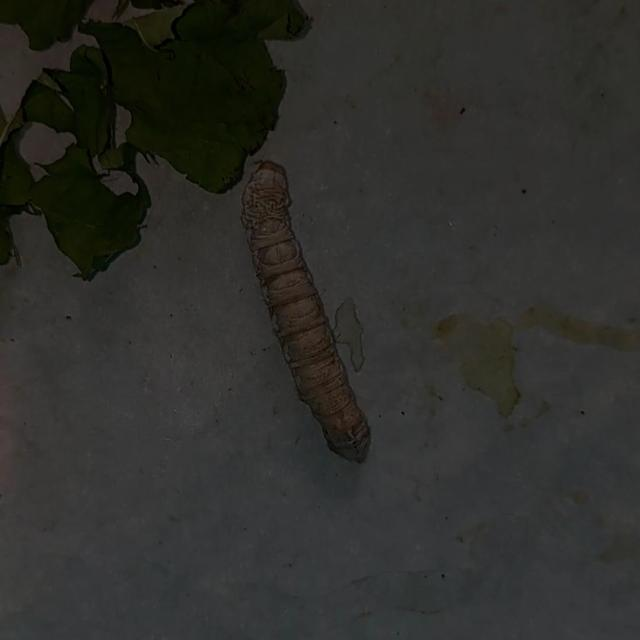Grasserie: (230, 158, 393, 468)
